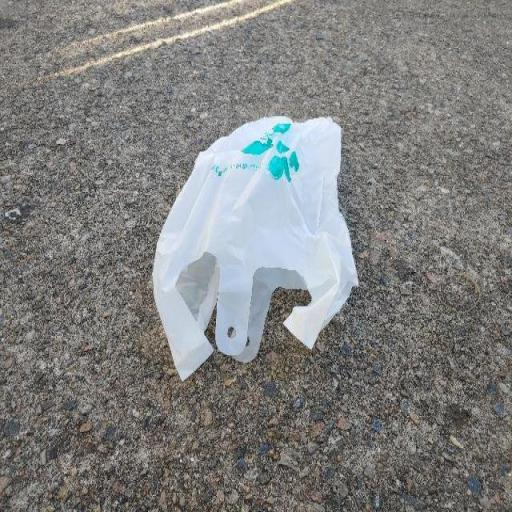plastic-bag: (152, 114, 362, 380)
